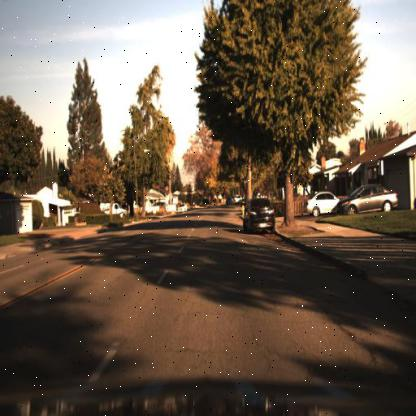car: (334, 178, 400, 217), (240, 192, 281, 243), (302, 189, 337, 220), (100, 200, 124, 216), (176, 202, 191, 214)
